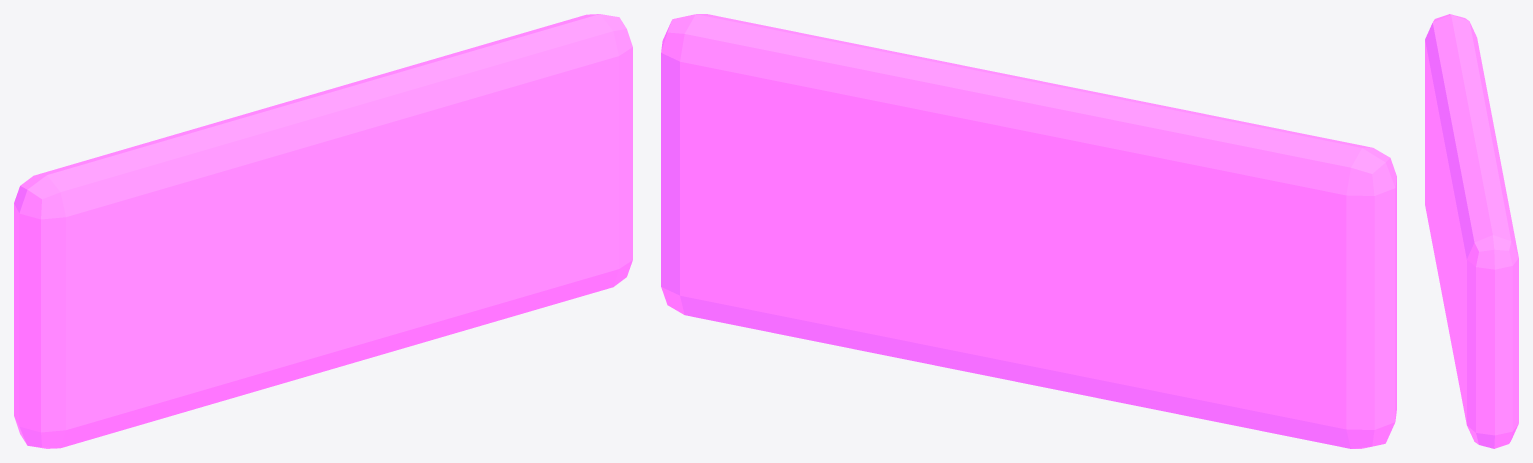
Rendered from Veteran_MissionSticker_03.glb.
3 renders of one model, left to right at view 1: azimuth 30°, elevation 25°; view 2: azimuth 150°, elevation 25°; view 3: azimuth 270°, elevation 25°, orthographic. The views are drawn at different scales.
Parts seen in each view (by area): view 1: Veteran_MissionSticker_03; view 2: Veteran_MissionSticker_03; view 3: Veteran_MissionSticker_03.
Boxes of the visible parts, x1,y1,x2,y2 form: Veteran_MissionSticker_03: [14, 14, 632, 448]; Veteran_MissionSticker_03: [661, 14, 1396, 448]; Veteran_MissionSticker_03: [1425, 14, 1518, 448].
Size of the model in its own units: 0.2193 by 0.09 by 0.0359.
